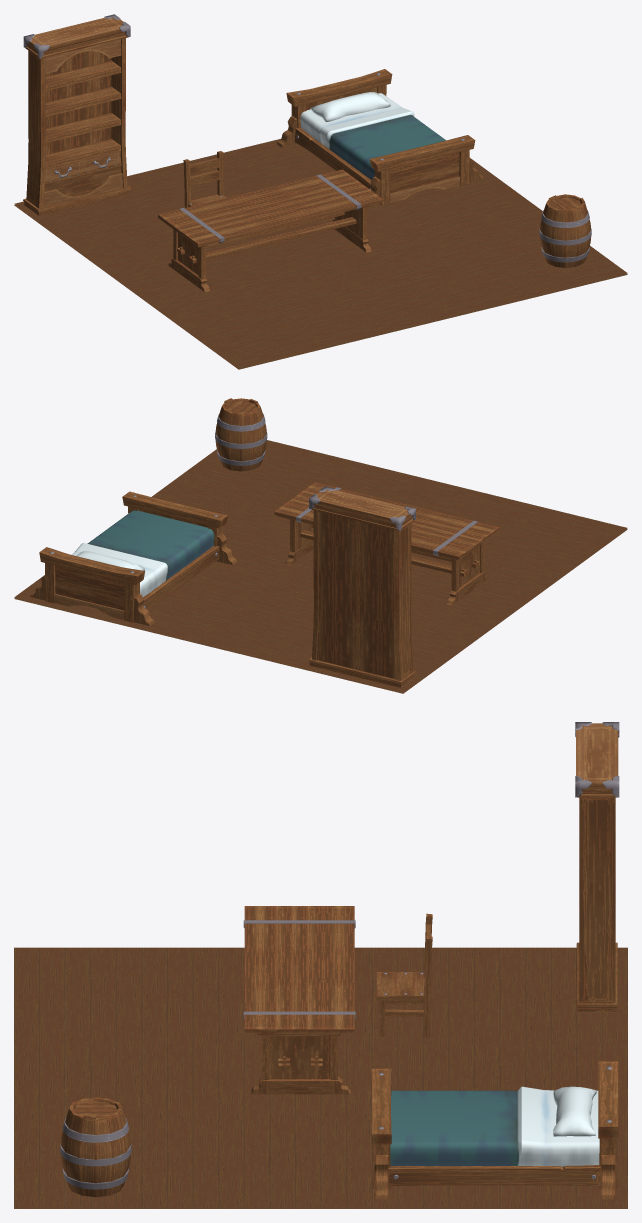
Rendered from house_b_in.gltf.
3 renders of one model, top to bottom at view 1: azimuth 30°, elevation 25°; view 2: azimuth 150°, elevation 25°; view 3: azimuth 270°, elevation 25°, orthographic. The views are drawn at different scales.
Parts seen in each view (by area): view 1: house_b_in; view 2: house_b_in; view 3: house_b_in.
Boxes of the visible parts, <box> form: house_b_in: <box>14,14,627,369</box>; house_b_in: <box>14,398,627,693</box>; house_b_in: <box>14,722,627,1208</box>.
Size of the model in its own units: 6 by 2.54 by 6.
Materials: 4 (4 with a texture image).
